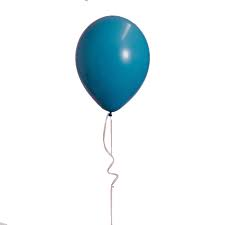Balloon: (76, 16, 150, 112)
